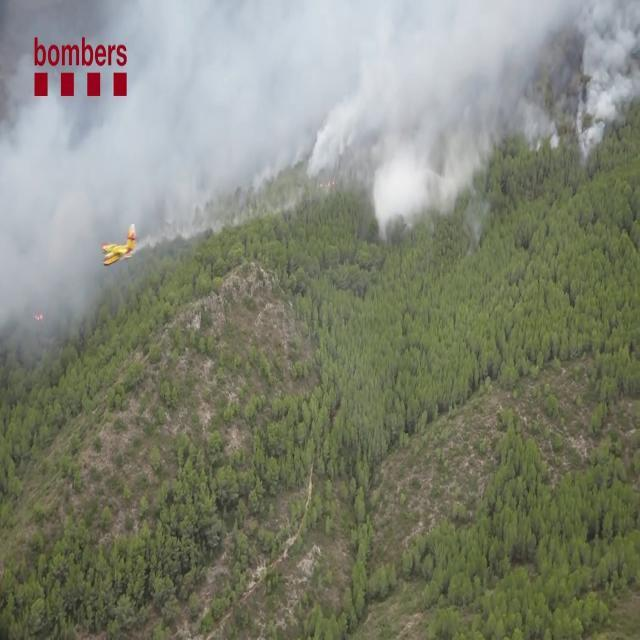Smoke: (6, 0, 636, 245)
